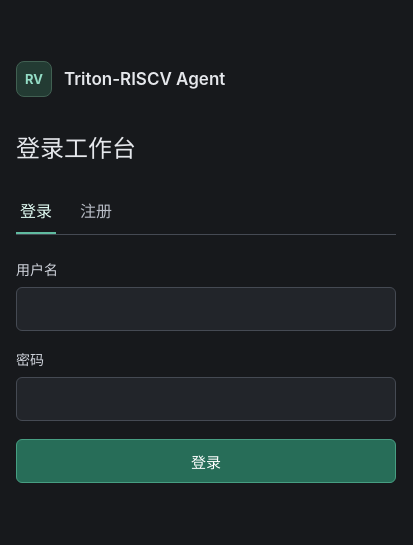
Test: requires an invitation and returns to login after registration
Click the tab "注册" at (96,211), box x1=76 y1=188 x2=116 y2=234
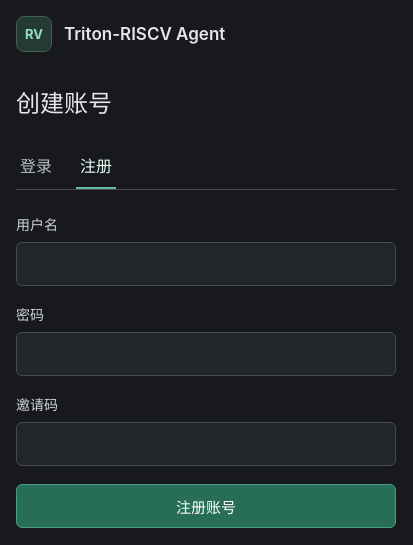
Type "alice" into the field labelled "用户名" at (206,264), box x1=16 y1=242 x2=396 y2=286
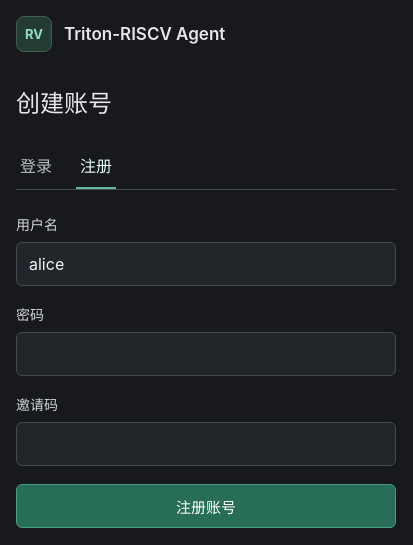
Type "long-test-password" into the password field labelled "密码" at (206,354), box x1=16 y1=332 x2=396 y2=376
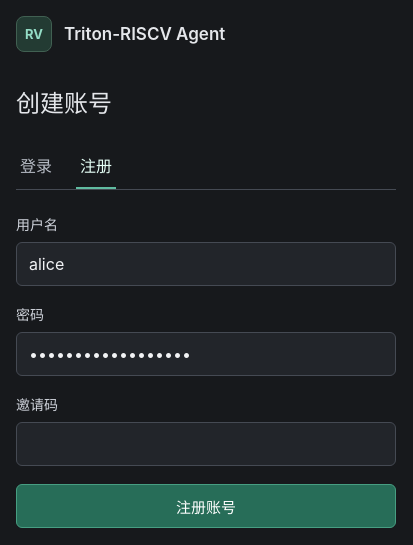
Type "invitation" into the field labelled "邀请码" at (206,444), box x1=16 y1=422 x2=396 y2=466
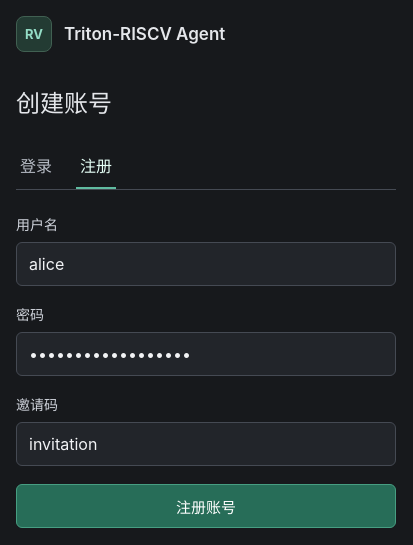
Click the button "注册账号" at (206,506), box x1=16 y1=484 x2=396 y2=528
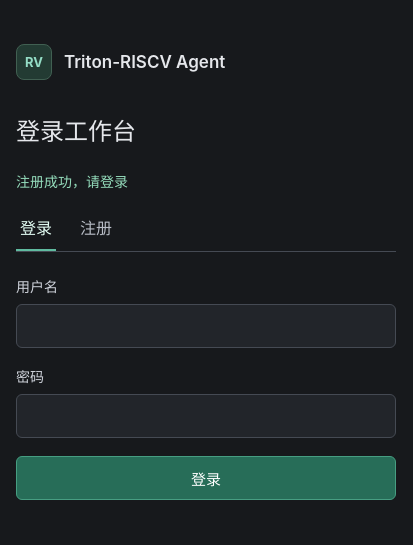
Expected: the text "注册成功，请登录" is shown, x1=16 y1=173 x2=128 y2=190
